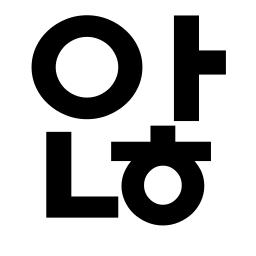Gaji: (163, 39, 217, 90)
